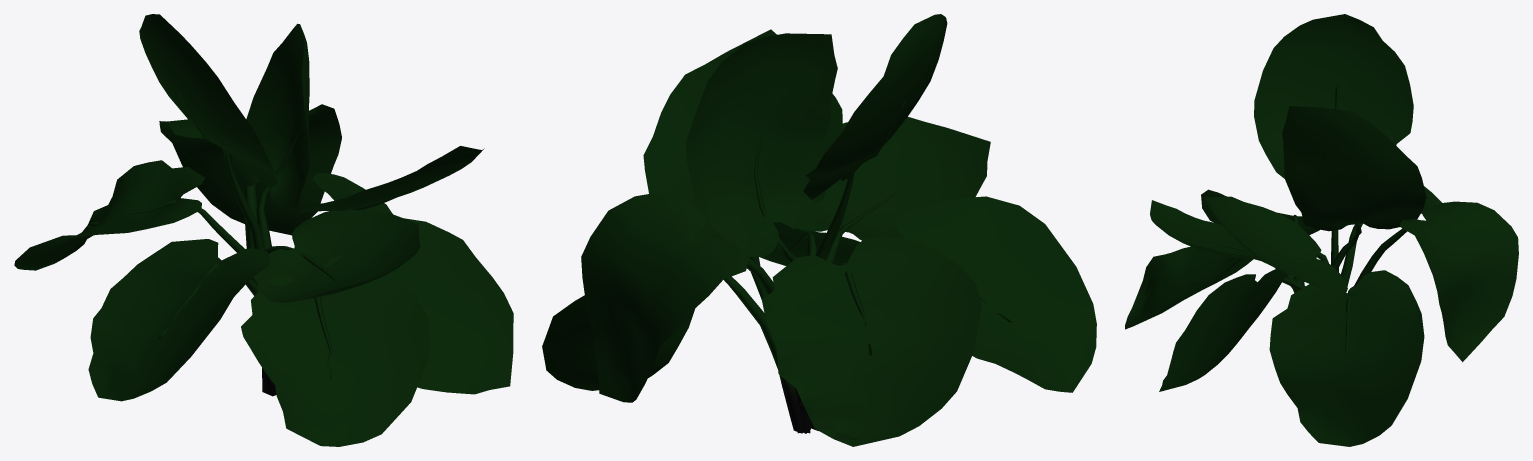
File: monster.fbx
The picture shows the model from 3 angles, left to right: view 1: azimuth 30°, elevation 25°; view 2: azimuth 150°, elevation 25°; view 3: azimuth 270°, elevation 25°; orthographic projection. The views are drawn at different scales.
Visible parts, largest first — view 1: branch.002_xw05_xt10_xp20; view 2: branch.002_xw05_xt10_xp20; view 3: branch.002_xw05_xt10_xp20.
Part boxes in pixels (<box>): branch.002_xw05_xt10_xp20: <box>14,14,513,446</box>; branch.002_xw05_xt10_xp20: <box>542,14,1096,446</box>; branch.002_xw05_xt10_xp20: <box>1125,14,1518,446</box>.
Size of the model in its own units: 3.42 by 3.25 by 3.58.
